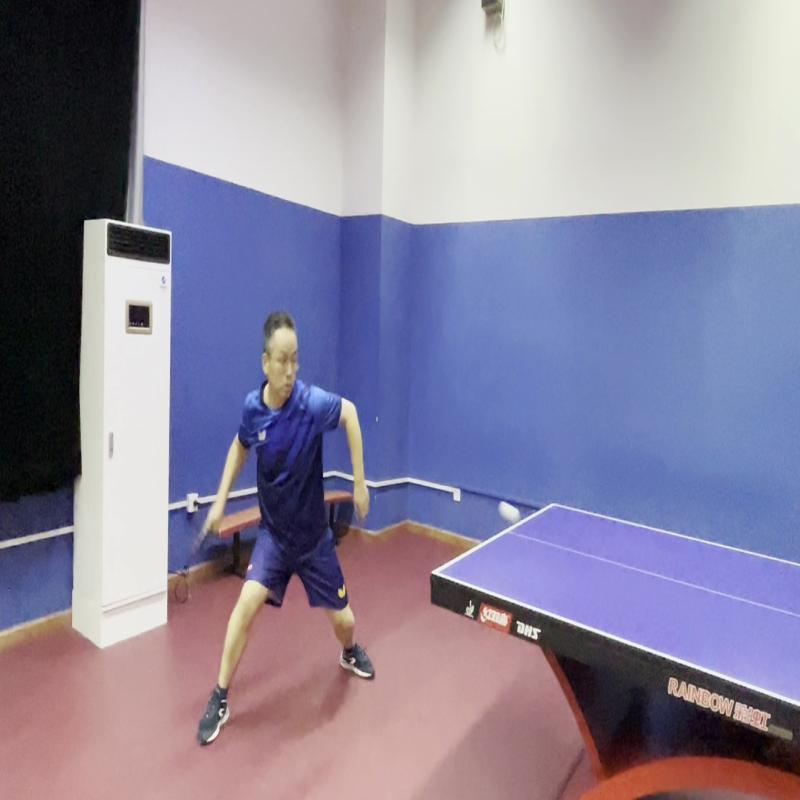bats: (192, 507, 223, 566)
